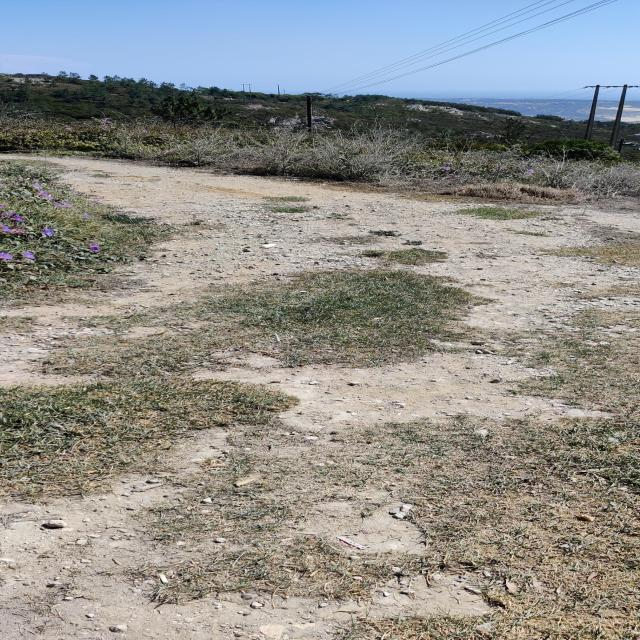Other plastic container: (261, 243, 277, 248)
Unlabeled litter: (337, 536, 368, 550)
